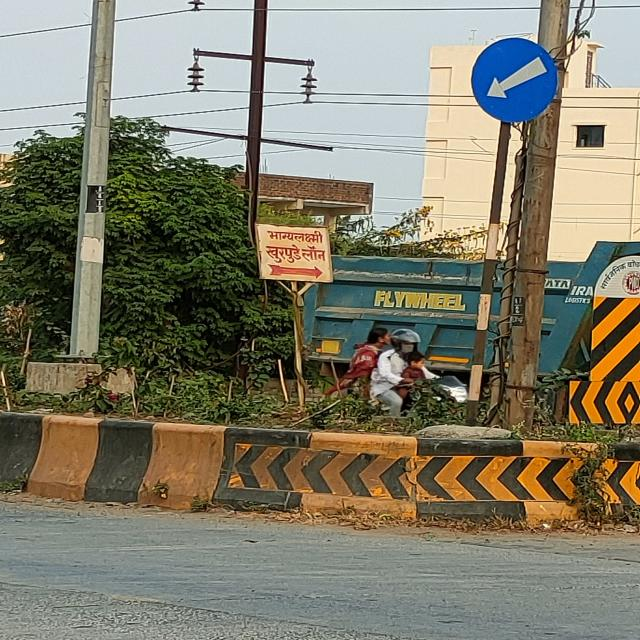compulsory_cycle_track: (469, 37, 556, 128)
